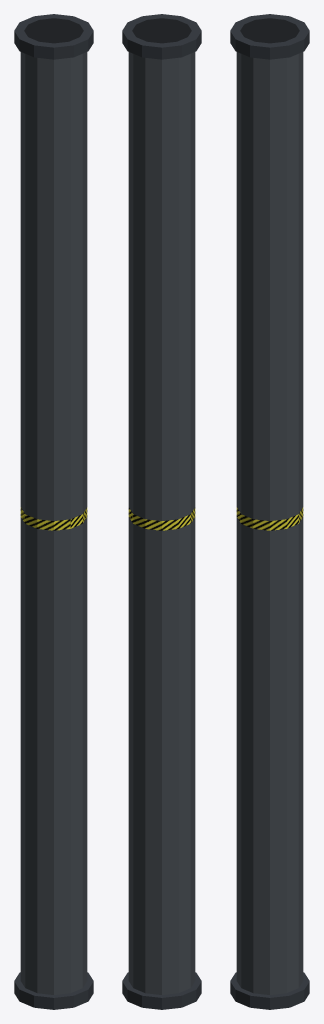
File: Pipe_0.25x4.fbx
3 renders of one model, left to right at view 1: azimuth 90°, elevation 25°; view 2: azimuth 150°, elevation 25°; view 3: azimuth 270°, elevation 25°, orthographic.
Parts seen in each view (by area): view 1: Pipe_0.25x4; view 2: Pipe_0.25x4; view 3: Pipe_0.25x4.
Part boxes in pixels (box(x1,y1,x2,y2)): Pipe_0.25x4: box(14, 14, 93, 1009); Pipe_0.25x4: box(122, 14, 201, 1009); Pipe_0.25x4: box(230, 14, 309, 1009).
Size of the model in its own units: 30 by 400 by 30.
